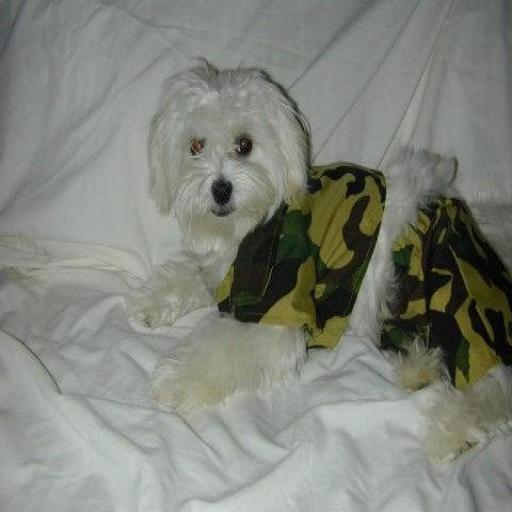dog_face: (151, 60, 286, 229)
